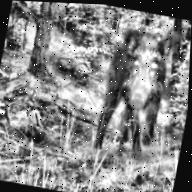boar: (95, 16, 188, 160)
